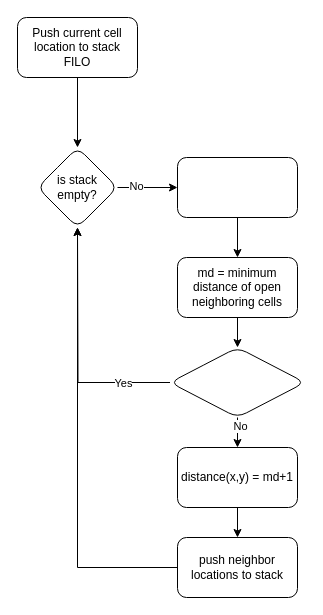
This 323x615 diagram has some shape labels left out. Each missing label, with the box of its shape:
distance(x,y) = md +1?: (169, 346, 305, 418)
Pull cell location (x,y): (176, 156, 298, 218)
